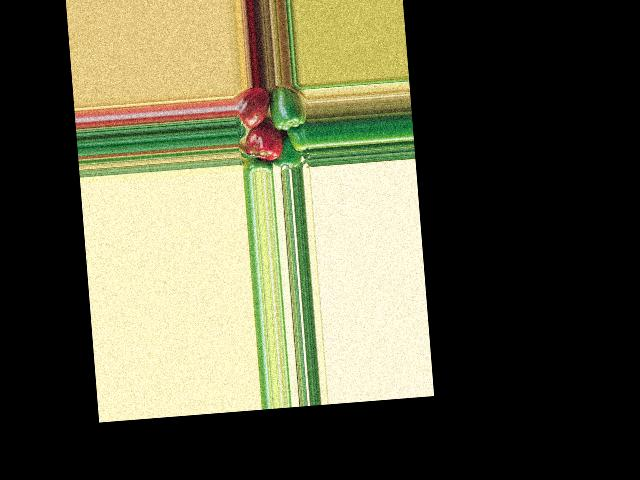bell_pepper: (235, 86, 269, 129)
